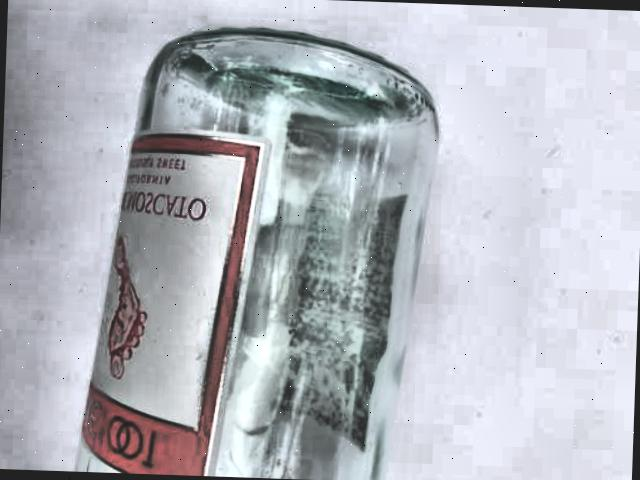Bottles: (48, 2, 460, 480)
